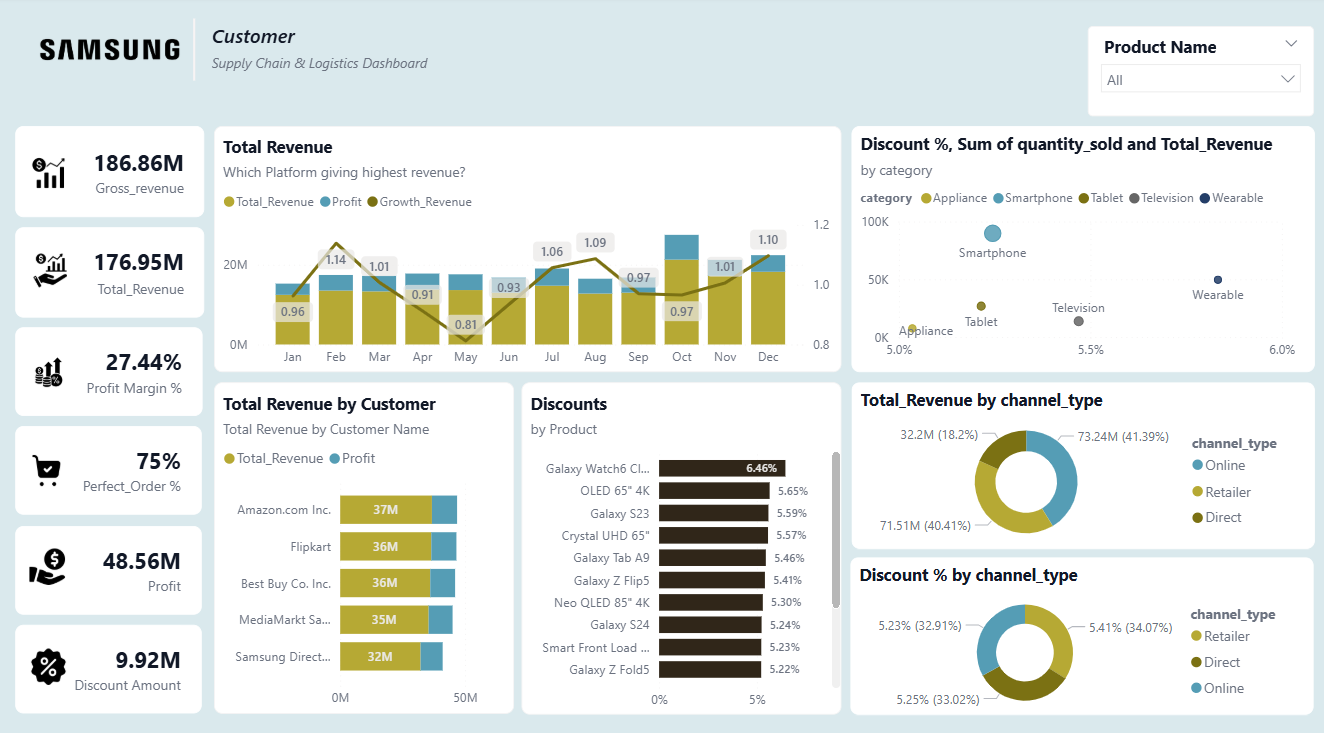

What the dashboard file says about the page in this screenshot:
{"tool":"powerbi","page":{"name":"Customer","canvas":[1280,720],"ordinal":5},"visuals":[{"type":"textbox","title":"Customer","box":[200.3,25.7,225,48.9],"z":0},{"type":"shape","box":[173.4,22,29.3,59.9],"z":1000},{"type":"image","box":[29,24.1,149.6,54.3],"z":2000},{"type":"cardVisual","fields":{"Data":["MeasuresTable.Total_Revenue"]},"box":[15.5,223,182.2,86.9],"z":3000},{"type":"cardVisual","fields":{"Data":["MeasuresTable.Profit"]},"box":[15.5,511.3,179.8,85.7],"z":4000},{"type":"cardVisual","fields":{"Data":["MeasuresTable.Profit Margin %"]},"box":[15.5,319.5,181,85.7],"z":5000},{"type":"cardVisual","fields":{"Data":["MeasuresTable.Perfect_Order %"]},"box":[15.5,414.8,179.8,85.7],"z":6000},{"type":"cardVisual","fields":{"Data":["Sum(fact_sales.discount_amount)"]},"box":[15.5,606.6,179.8,85.7],"z":7000},{"type":"cardVisual","fields":{"Data":["Sum(fact_sales.gross_revenue)"]},"box":[15.5,125.3,182.2,88.1],"z":8000},{"type":"barChart","title":"Total Revenue by Customer","fields":{"Category":["dim_customer.customer_name"],"Y":["MeasuresTable.Total_Revenue","MeasuresTable.Profit"]},"box":[207.5,372.8,289.5,319.7],"z":9000},{"type":"image","box":[27.8,154.2,39.8,32.6],"z":10000},{"type":"image","box":[31.4,247.1,36.2,35],"z":11000},{"type":"image","box":[32.6,344.8,31.4,36.2],"z":12000},{"type":"image","box":[27.8,437.7,36.2,38.6],"z":13000},{"type":"image","box":[27.8,533,37.4,35],"z":14000},{"type":"image","box":[29,629.6,37.4,35],"z":15000},{"type":"donutChart","fields":{"Y":["MeasuresTable.Total_Revenue"],"Category":["dim_customer.channel_type"]},"box":[823,372.8,447.6,160.5],"z":16000},{"type":"lineStackedColumnComboChart","title":"Total Revenue","fields":{"Category":["dim_date.Month_Short"],"Y":["MeasuresTable.Total_Revenue","MeasuresTable.Profit"],"Y2":["MeasuresTable.Growth_Revenue"]},"box":[207.5,125.5,605.6,237.7],"z":17000},{"type":"clusteredBarChart","title":"Discounts","fields":{"Category":["dim_product.product_name"],"Y":["MeasuresTable.Discount %"]},"box":[504.3,372.8,308.8,320.9],"z":18000},{"type":"scatterChart","title":"Discount %, Sum of quantity_sold and Total_Revenue","fields":{"X":["MeasuresTable.Discount %"],"Y":["Sum(fact_sales.quantity_sold)"],"Series":["dim_product.category"],"Size":["MeasuresTable.Total_Revenue"]},"box":[823,125.5,447.6,237.7],"z":19000},{"type":"donutChart","fields":{"Y":["MeasuresTable.Discount %"],"Category":["dim_customer.channel_type"]},"box":[821.8,541.7,447.6,152],"z":20000},{"type":"slicer","fields":{"Values":["dim_product.product_name"]},"box":[1050.8,29,218.4,86.9],"z":21000}]}

Visuals, with their boxes in screenshot pixels (x1, y1, x2, y2), scaled from the page's 1280x720 canvas onto the 1324x733 screenshot:
"Customer" textbox: BBox(207, 26, 440, 76)
shape: BBox(179, 22, 210, 83)
image: BBox(30, 25, 185, 80)
cardVisual - MeasuresTable.Total_Revenue: BBox(16, 227, 204, 315)
cardVisual - MeasuresTable.Profit: BBox(16, 521, 202, 608)
cardVisual - MeasuresTable.Profit Margin %: BBox(16, 325, 203, 413)
cardVisual - MeasuresTable.Perfect_Order %: BBox(16, 422, 202, 510)
cardVisual - Sum(fact_sales.discount_amount): BBox(16, 618, 202, 705)
cardVisual - Sum(fact_sales.gross_revenue): BBox(16, 128, 204, 217)
"Total Revenue by Customer" barChart: BBox(215, 380, 514, 705)
image: BBox(29, 157, 70, 190)
image: BBox(32, 252, 70, 287)
image: BBox(34, 351, 66, 388)
image: BBox(29, 446, 66, 485)
image: BBox(29, 543, 67, 578)
image: BBox(30, 641, 69, 677)
donutChart - MeasuresTable.Total_Revenue x dim_customer.channel_type: BBox(851, 380, 1314, 543)
"Total Revenue" lineStackedColumnComboChart: BBox(215, 128, 841, 370)
"Discounts" clusteredBarChart: BBox(522, 380, 841, 706)
"Discount %, Sum of quantity_sold and Total_Revenue" scatterChart: BBox(851, 128, 1314, 370)
donutChart - MeasuresTable.Discount % x dim_customer.channel_type: BBox(850, 551, 1313, 706)
slicer - dim_product.product_name: BBox(1087, 30, 1313, 118)
